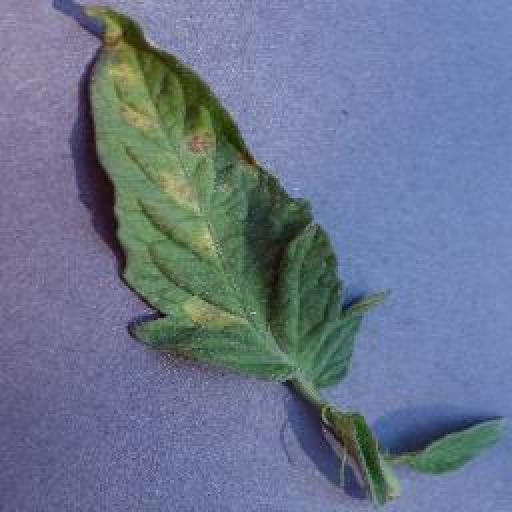disease_tomato: (86, 2, 391, 390)
